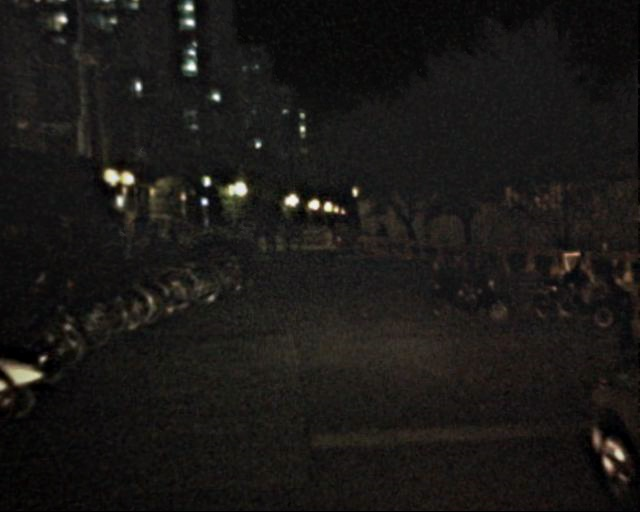person: (226, 220, 261, 246), (115, 225, 133, 269), (260, 220, 278, 263), (148, 220, 164, 260), (278, 217, 294, 256), (374, 221, 390, 259), (164, 225, 178, 260), (292, 222, 303, 241)
